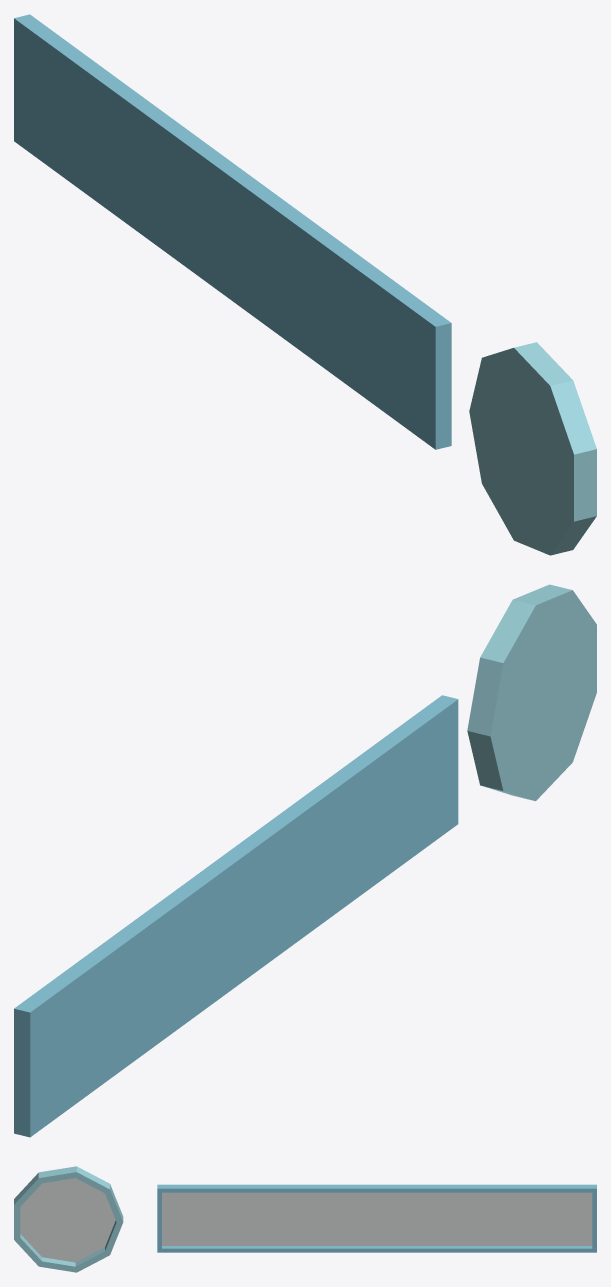
Rendered from Top_Label.fbx.
The picture shows the model from 3 angles, top to bottom: view 1: azimuth 30°, elevation 25°; view 2: azimuth 150°, elevation 25°; view 3: azimuth 270°, elevation 25°; orthographic projection. The views are drawn at different scales.
Visible parts, largest first — view 1: speech_area, Avatar_1; view 2: speech_area, Avatar_1; view 3: speech_area, Avatar_1.
Boxes of the visible parts, x1,y1,x2,y2 form: speech_area: [14, 14, 451, 449]; Avatar_1: [469, 342, 596, 555]; speech_area: [14, 695, 458, 1137]; Avatar_1: [467, 584, 596, 801]; speech_area: [157, 1184, 596, 1252]; Avatar_1: [14, 1166, 123, 1272].
Bounding box in the file's own units: 2.43 × 18.7 × 98.25.
